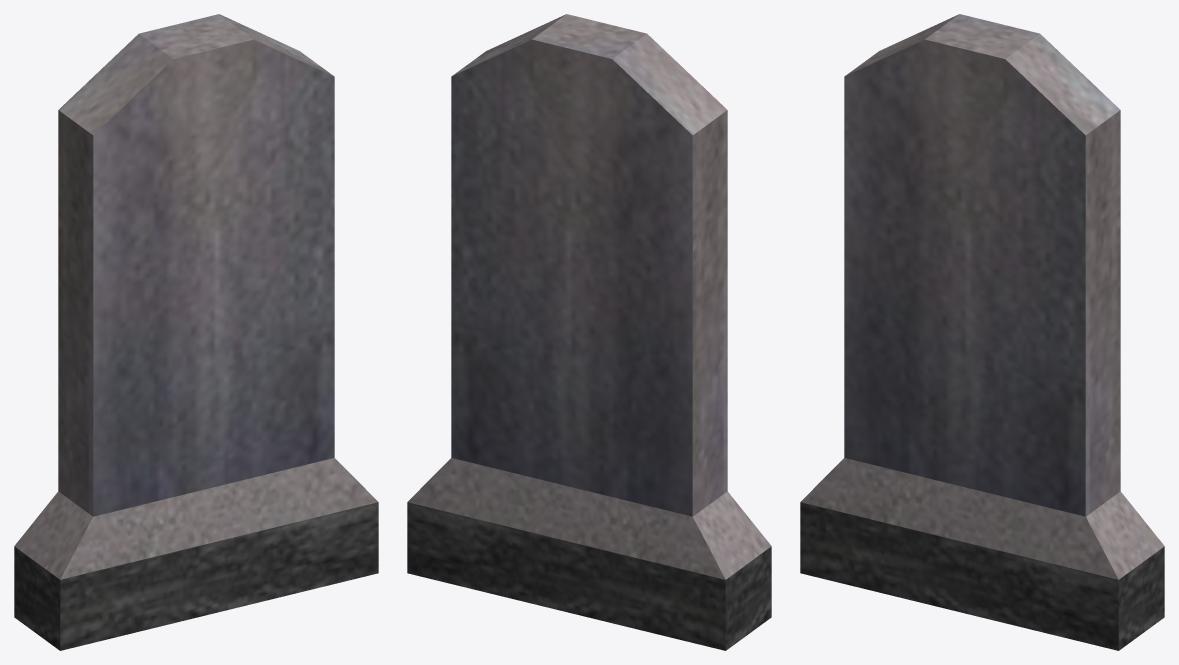
The model's file is grave1.glb.
3 renders of one model, left to right at view 1: azimuth 30°, elevation 25°; view 2: azimuth 150°, elevation 25°; view 3: azimuth 330°, elevation 25°, orthographic.
Size of the model in its own units: 2 by 3.35 by 0.5.
Materials: 1 (1 with a texture image).
